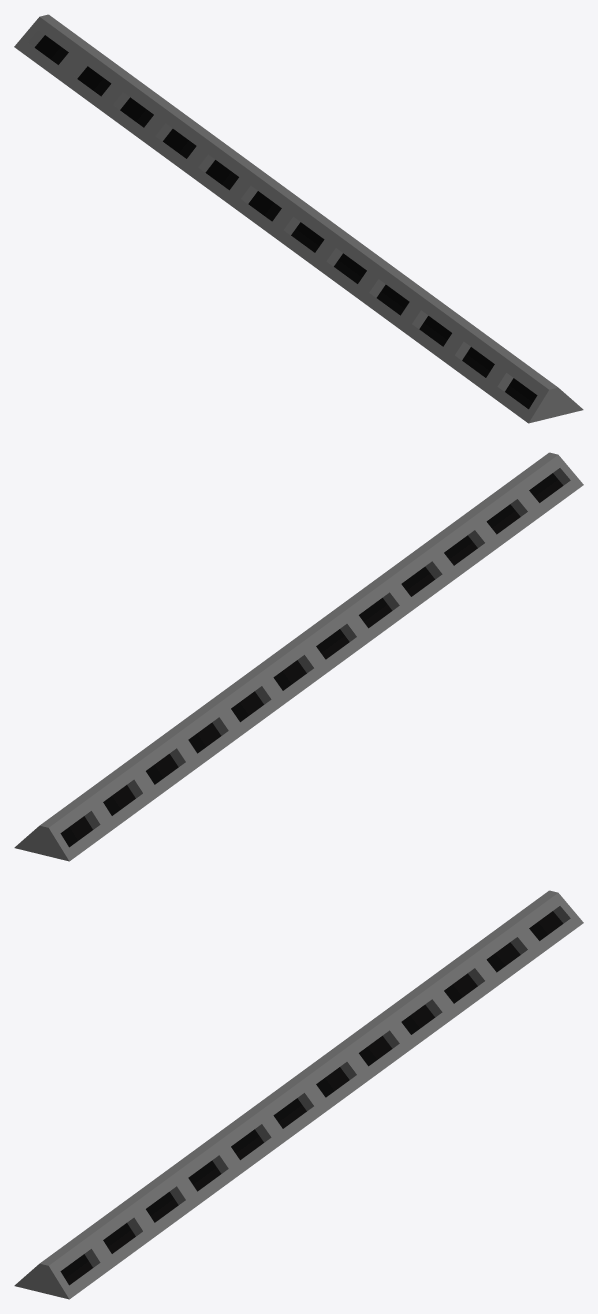
The model's file is Socket_threshold_long.fbx.
The picture shows the model from 3 angles, top to bottom: view 1: azimuth 30°, elevation 25°; view 2: azimuth 150°, elevation 25°; view 3: azimuth 330°, elevation 25°; orthographic projection.
Visible parts, largest first — view 1: Socket threshhold long; view 2: Socket threshhold long; view 3: Socket threshhold long.
Boxes of the visible parts, x1,y1,x2,y2 form: Socket threshhold long: (14,14,583,423); Socket threshhold long: (14,452,583,861); Socket threshhold long: (14,890,583,1299).
Bounding box in the file's own units: 16.83 × 7.62 × 270.
